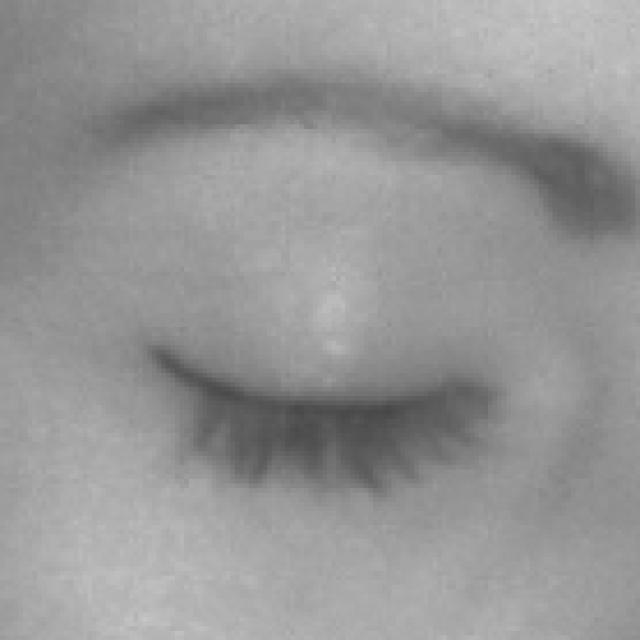close: (51, 25, 640, 597)
